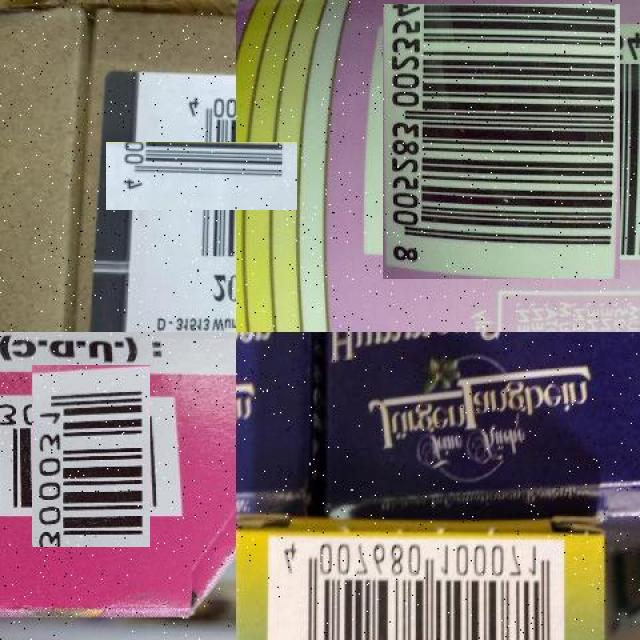Barcode: (374, 13, 630, 270), (267, 540, 564, 640), (16, 381, 167, 531), (136, 111, 267, 240)
